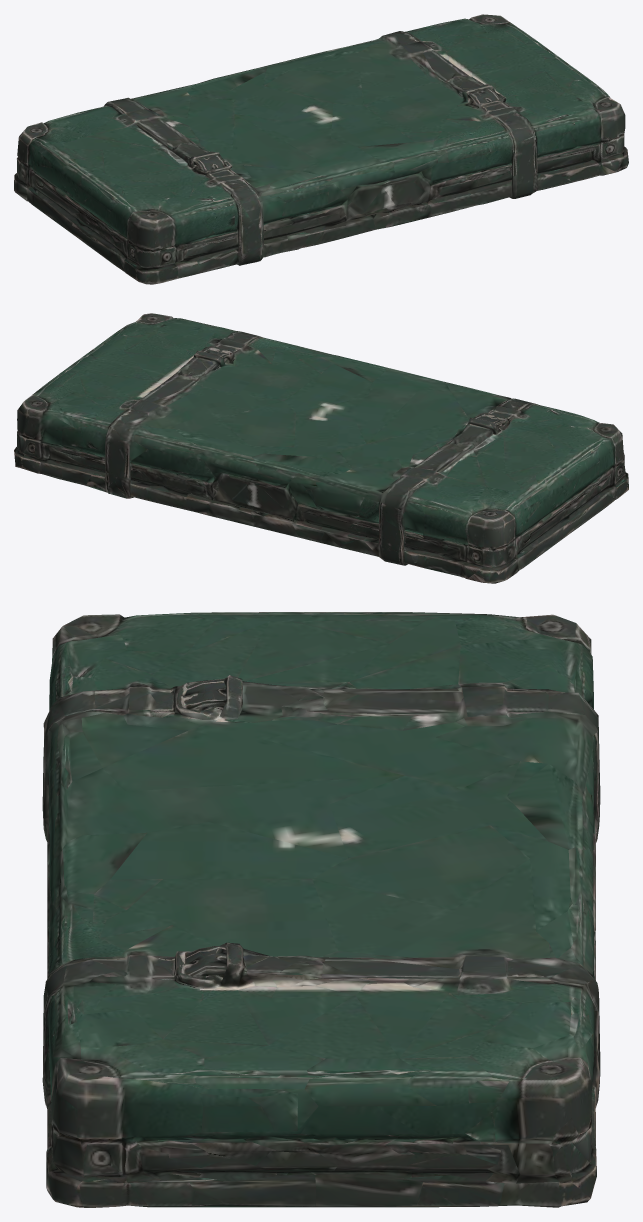
The model's file is landing-platform-felt.glb.
3 views of the same model, one above another, from view 1: azimuth 30°, elevation 25°; view 2: azimuth 150°, elevation 25°; view 3: azimuth 270°, elevation 25° (orthographic). The views are drawn at different scales.
Size of the model in its own units: 1.9 by 0.2902 by 0.9341.
1 material, 1 textured.
